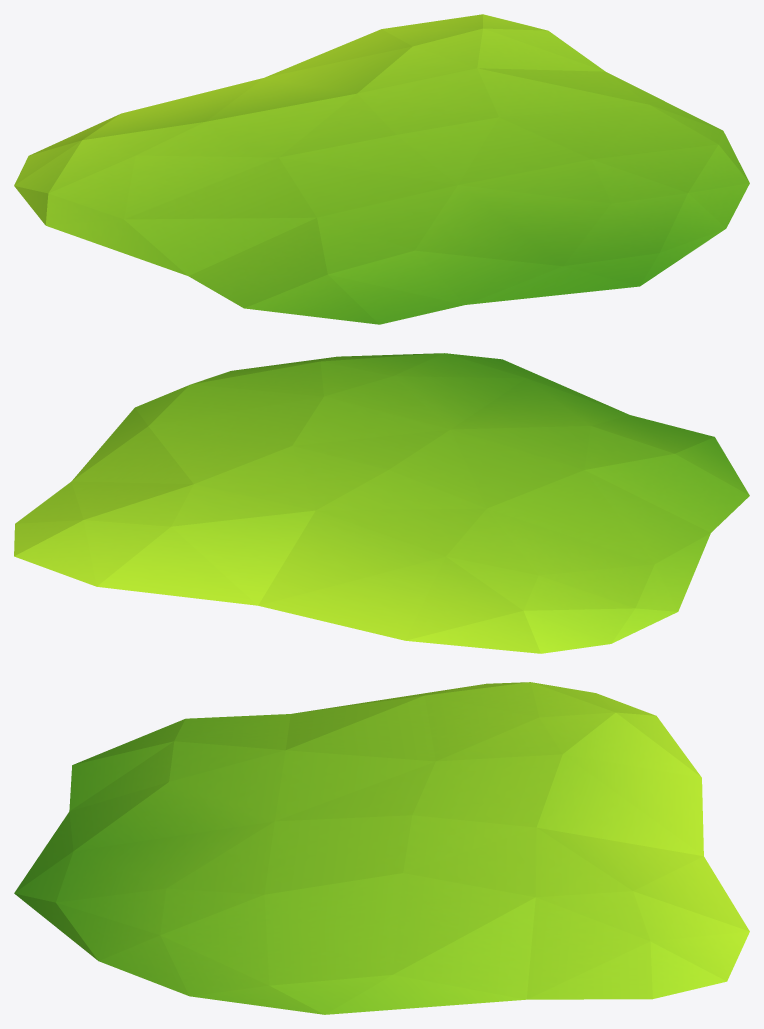
The model's file is TerrainPatchGreen.fbx.
3 views of the same model, one above another, from view 1: azimuth 30°, elevation 25°; view 2: azimuth 150°, elevation 25°; view 3: azimuth 270°, elevation 25° (orthographic). The views are drawn at different scales.
Visible parts, largest first — view 1: TerrainPatchGreen; view 2: TerrainPatchGreen; view 3: TerrainPatchGreen.
Part boxes in pixels (x1=…): TerrainPatchGreen: x1=14, y1=14, x2=749, y2=324; TerrainPatchGreen: x1=14, y1=353, x2=749, y2=653; TerrainPatchGreen: x1=14, y1=682, x2=749, y2=1014.
Size of the model in its own units: 5.82 by 0.3447 by 5.46.
